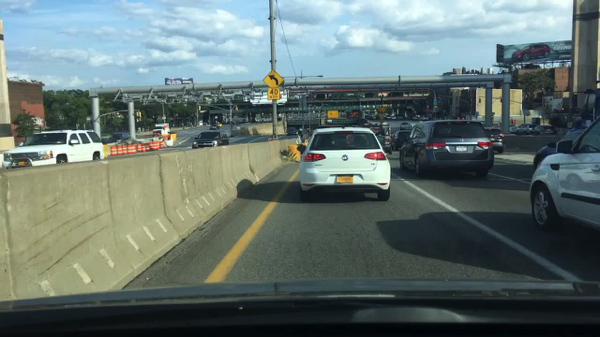car: (528, 118, 599, 237), (299, 125, 390, 202), (399, 121, 492, 183), (2, 128, 105, 169), (533, 128, 586, 174), (569, 88, 599, 131), (367, 125, 392, 154), (191, 131, 228, 148), (483, 126, 503, 154), (516, 123, 541, 136), (392, 132, 410, 150), (541, 126, 557, 136), (399, 122, 414, 132), (209, 123, 219, 131), (286, 128, 296, 136), (509, 124, 517, 133), (366, 115, 378, 121), (152, 131, 162, 138), (216, 122, 224, 129), (419, 117, 430, 121), (411, 115, 418, 121), (397, 115, 403, 121), (196, 105, 201, 112), (234, 121, 241, 126), (242, 119, 249, 124), (391, 115, 396, 121), (296, 129, 303, 133), (384, 115, 390, 119)
person: (498, 119, 502, 127), (455, 116, 460, 122), (461, 116, 464, 121)
traffic light: (137, 111, 141, 119), (135, 111, 138, 119), (234, 105, 238, 111), (478, 97, 482, 103)
traffic sign: (264, 70, 283, 87), (266, 87, 280, 100), (327, 111, 337, 119), (381, 103, 389, 108), (433, 99, 438, 106), (432, 105, 438, 110), (278, 112, 283, 118), (490, 111, 496, 116)
truck: (154, 123, 170, 135)
